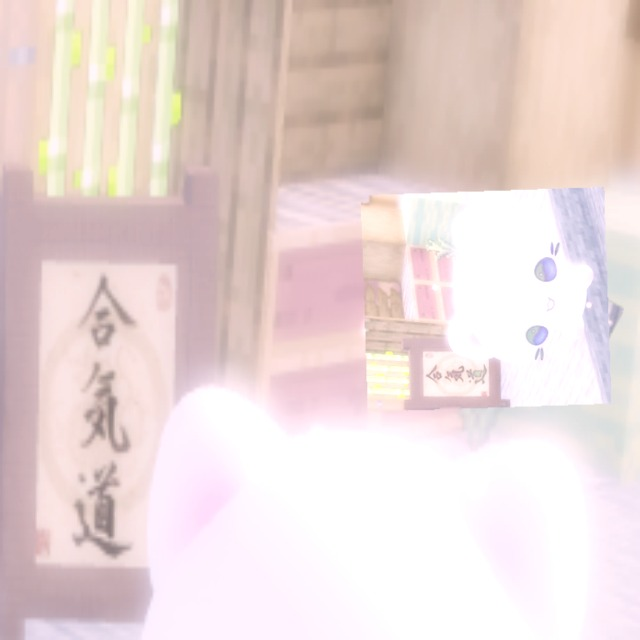urso_branco: (360, 187, 612, 412), (554, 284, 624, 351)
